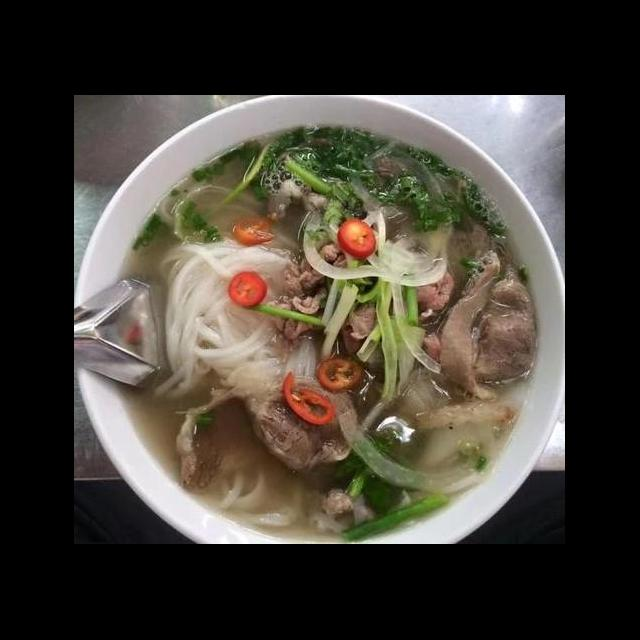banh pho: (146, 230, 316, 406)
pho bo: (125, 116, 566, 544)
thit bo: (172, 351, 356, 496), (262, 186, 378, 352), (434, 244, 544, 408), (338, 244, 458, 360)
